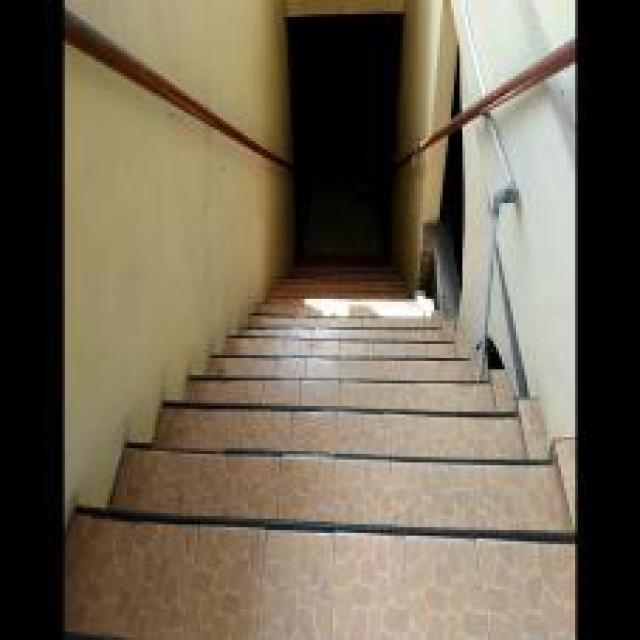downstair: (145, 289, 559, 638)
